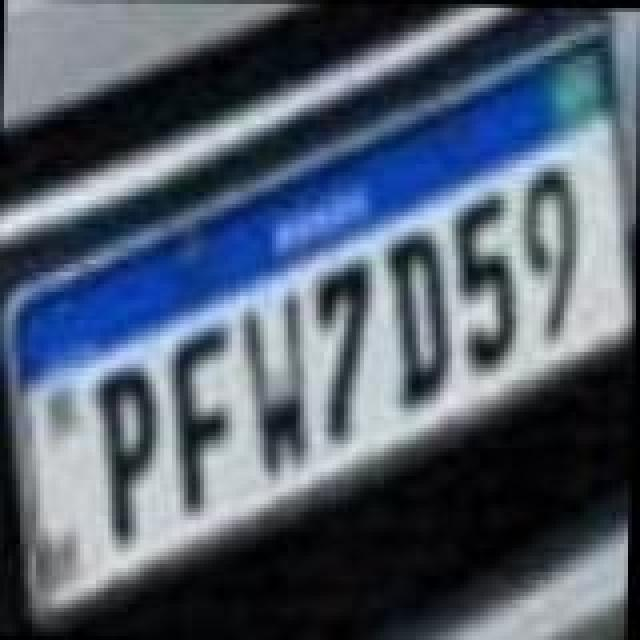5: (444, 194, 524, 374)
7: (310, 254, 378, 446)
9: (514, 162, 590, 342)
D: (380, 226, 460, 406)
F: (164, 328, 240, 520)
P: (90, 368, 166, 552)
W: (234, 286, 314, 486)
